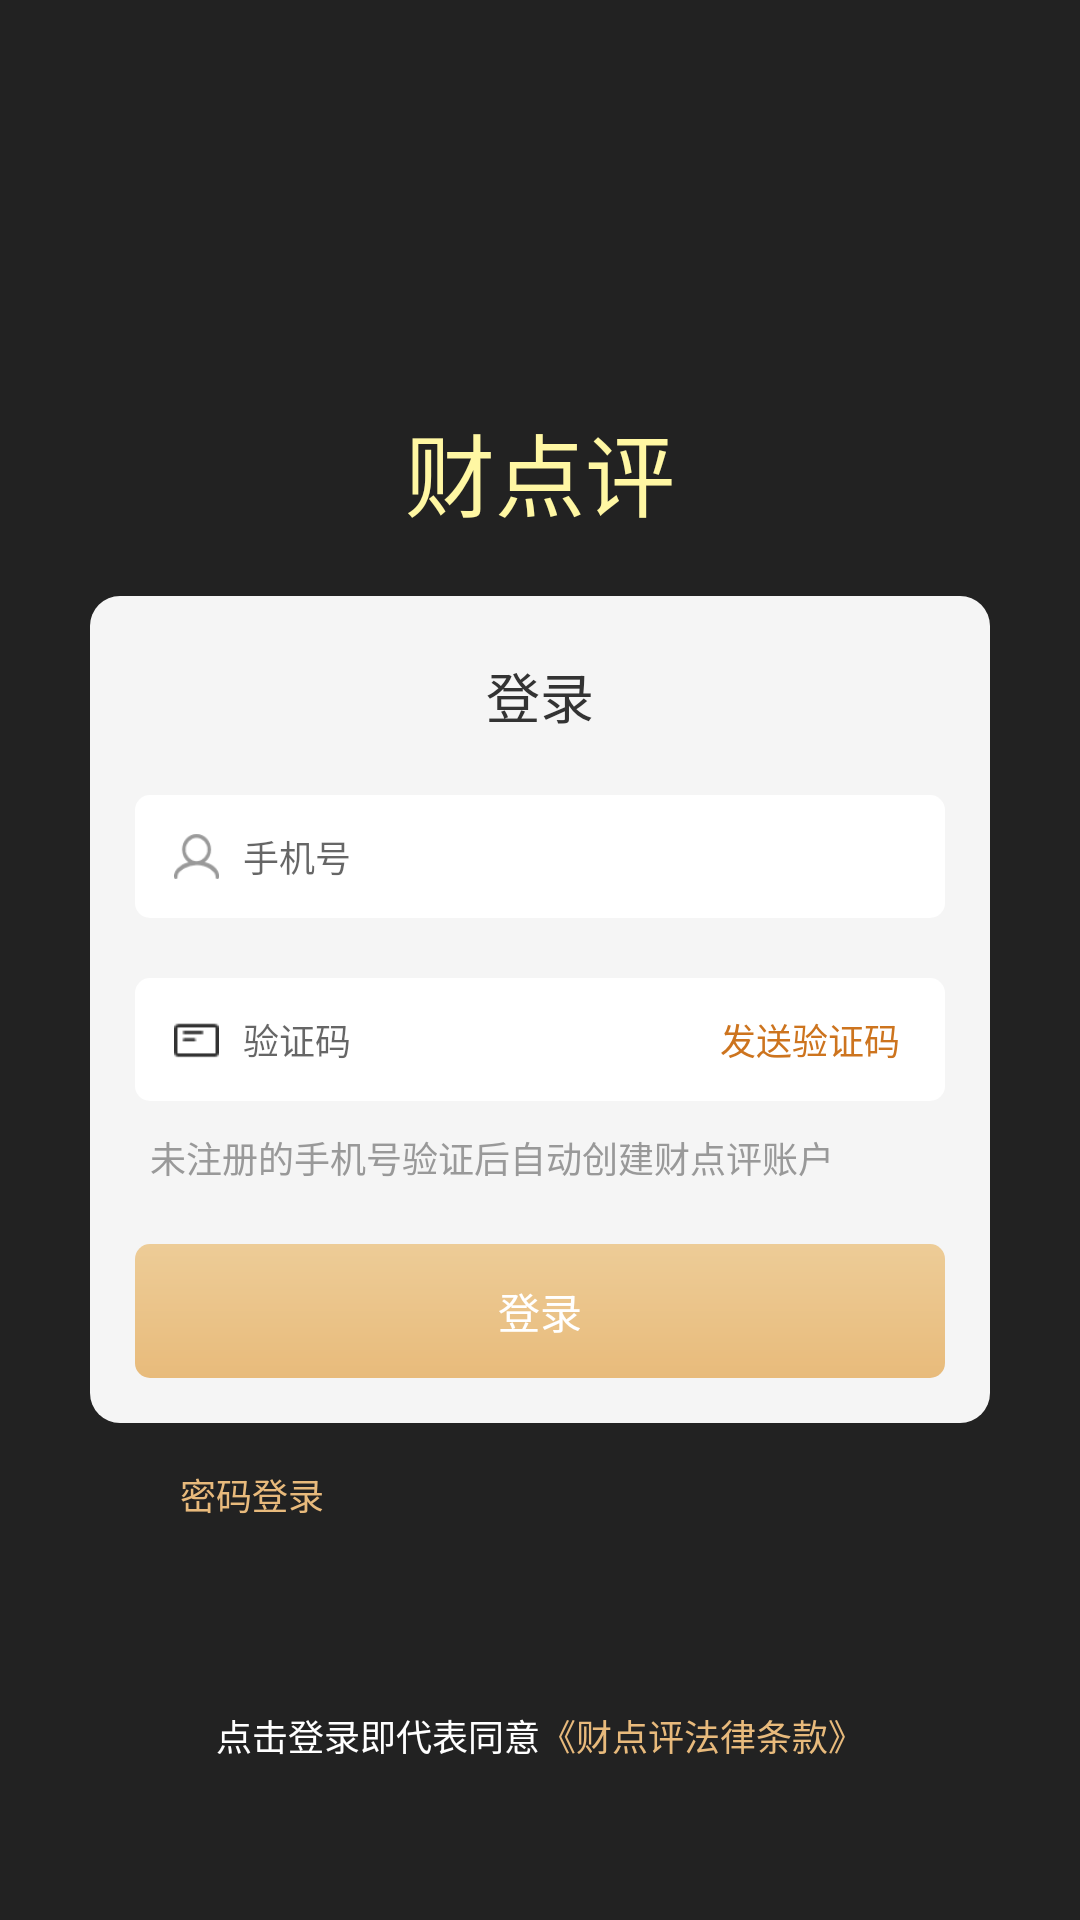

Point at icon controls on the screen. Image size 1080px×1920px, points as point (x, y).
mine: point (196, 856)
